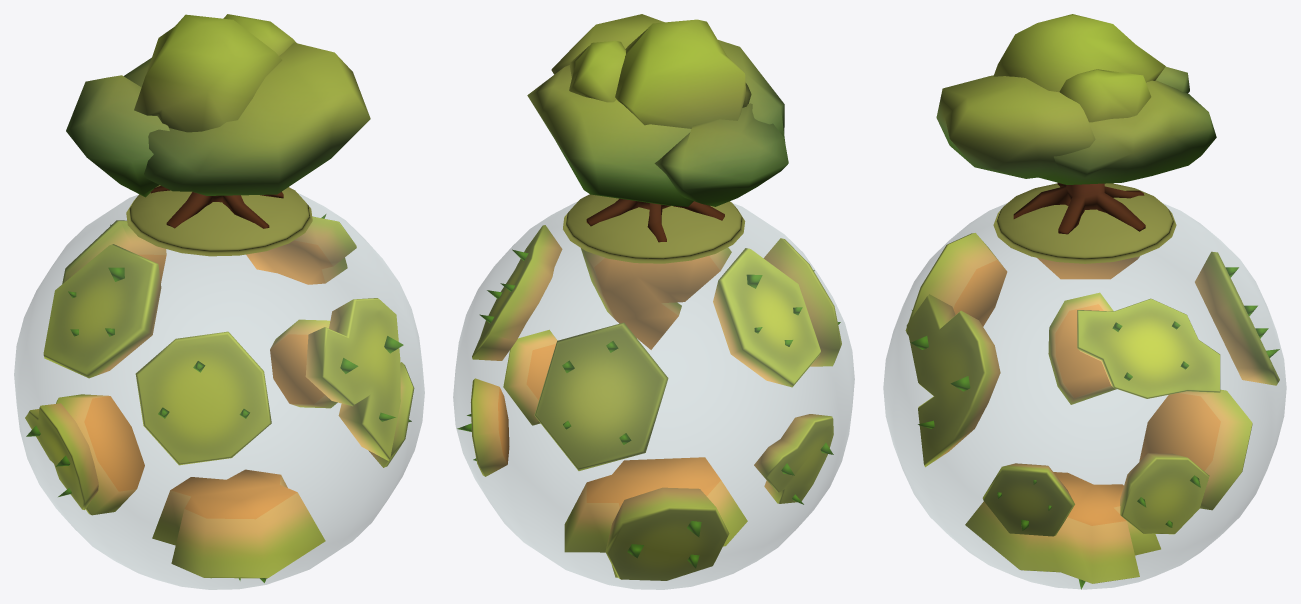
Rendered from wakusei_sizen.fbx.
The picture shows the model from 3 angles, left to right: view 1: azimuth 30°, elevation 25°; view 2: azimuth 150°, elevation 25°; view 3: azimuth 270°, elevation 25°; orthographic projection. The views are drawn at different scales.
Visible parts, largest first — view 1: polySurface1, pCube1, pPlane4, pPlane15, pSphere2, pPlane16, pPlane7, polySurface2, pSphere3, pPlane6, pPlane8, pPlane40 (+5 smaller); view 2: polySurface1, pPlane12, pCube2, pSphere2, pPlane16, pPlane6, pSphere3, polySurface2, pPlane4, pPlane7, pPlane8, pPlane40 (+6 smaller); view 3: polySurface1, pCube1, pPlane4, pPlane8, pPlane7, pCube2, polySurface2, pSphere2, pPlane6, pPlane14, pPlane15, pPlane39 (+6 smaller).
Part boxes in pixels (<box>): polySurface1: <box>14,193,424,589</box>; pCube1: <box>144,42,370,195</box>; pPlane4: <box>152,469,325,578</box>; pPlane15: <box>135,331,271,465</box>; pSphere2: <box>134,14,282,132</box>; pPlane16: <box>43,244,161,378</box>; pPlane7: <box>305,298,400,460</box>; polySurface2: <box>126,185,312,256</box>; pSphere3: <box>66,75,169,197</box>; pPlane6: <box>56,394,144,515</box>; pPlane8: <box>246,216,356,284</box>; pPlane40: <box>25,403,98,509</box>; polySurface1: <box>453,202,854,589</box>; pPlane12: <box>534,322,668,470</box>; pCube2: <box>527,65,693,206</box>; pSphere2: <box>615,19,751,128</box>; pPlane16: <box>713,248,820,387</box>; pPlane6: <box>605,487,729,580</box>; pSphere3: <box>654,103,788,206</box>; polySurface2: <box>563,194,745,263</box>; pPlane4: <box>564,457,747,577</box>; pPlane7: <box>581,247,731,349</box>; pPlane8: <box>472,225,562,360</box>; pPlane40: <box>754,414,833,503</box>; polySurface1: <box>883,203,1286,589</box>; pCube1: <box>936,75,1095,178</box>; pPlane4: <box>965,472,1160,583</box>; pPlane8: <box>1077,298,1220,398</box>; pPlane7: <box>906,294,1000,467</box>; pCube2: <box>1039,80,1216,184</box>; polySurface2: <box>993,183,1176,263</box>; pSphere2: <box>993,14,1165,92</box>; pPlane6: <box>1139,389,1252,510</box>; pPlane14: <box>1120,453,1209,534</box>; pPlane15: <box>905,233,1007,335</box>; pPlane39: <box>982,463,1074,536</box>.
Size of the model in its own units: 12.49 by 18.59 by 12.49.
